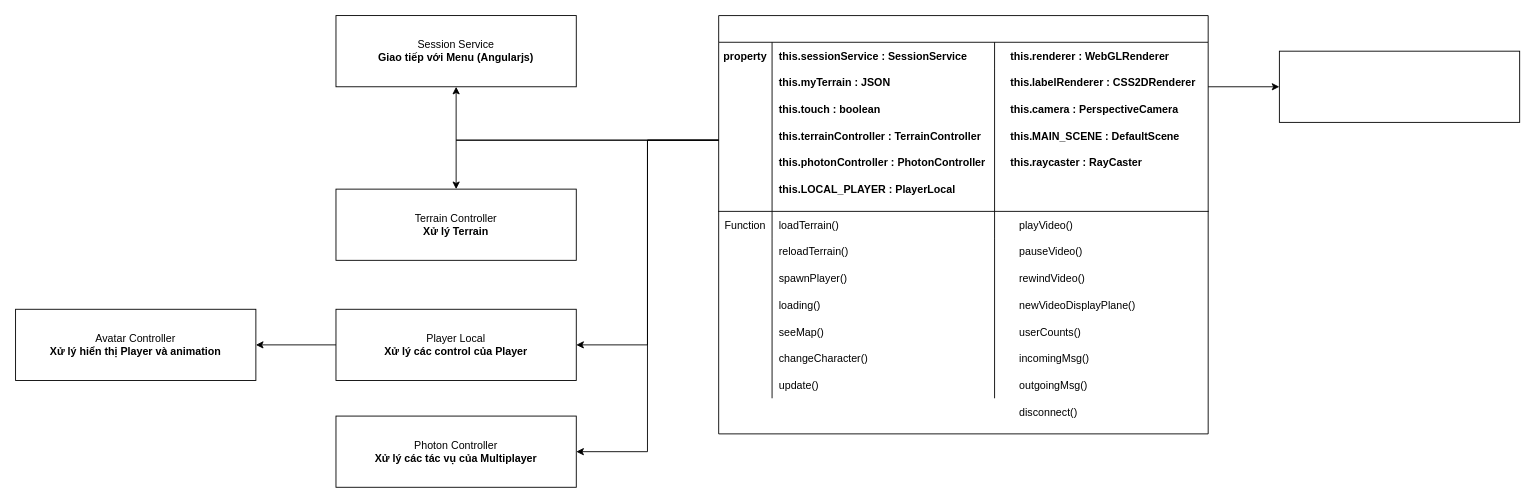
The diagram is 1535 pixels wide and 503 high, and some of its shapes have lost their labels. The shapes that lost their labels are listed below. From the top down, each one's box as (x1, y1, x2, y2) in pixels, then its label:
(1278, 50, 1520, 122): Bộ Renderer Xử lý render các mô hình 3D
(718, 15, 1208, 434): Virtual Environment
